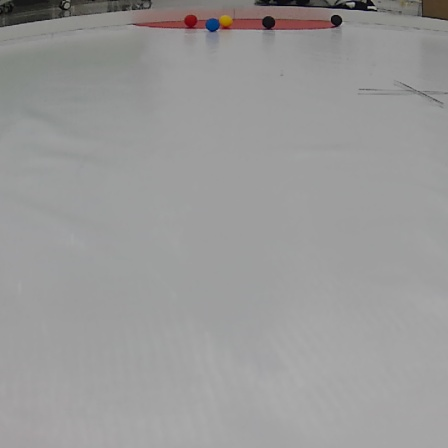black: (260, 13, 278, 30), (330, 14, 343, 26)
blue: (204, 18, 220, 33)
red: (183, 15, 197, 28)
red_base: (130, 16, 338, 36)
yellow: (220, 13, 233, 30)
